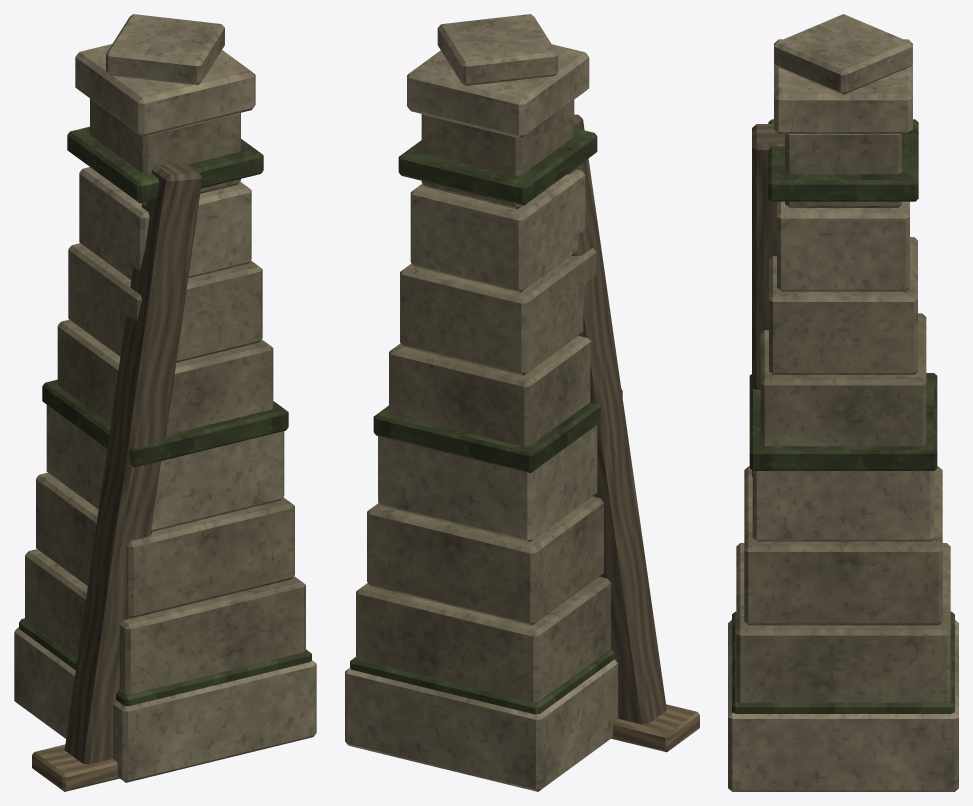
3 views of the same model, side by side, from view 1: azimuth 30°, elevation 25°; view 2: azimuth 150°, elevation 25°; view 3: azimuth 270°, elevation 25° (orthographic). The views are drawn at different scales.
Visible parts, largest first — view 1: weathered-sandstone-ashlar, sandstone-edges, quarter-sawn-timber, olive-painted-field-steel, exposed-end-grain; view 2: weathered-sandstone-ashlar, sandstone-edges, quarter-sawn-timber, olive-painted-field-steel, exposed-end-grain; view 3: weathered-sandstone-ashlar, sandstone-edges, olive-painted-field-steel, quarter-sawn-timber.
Boxes of the visible parts, left/top/right/bottom form: weathered-sandstone-ashlar: left=25, top=98, right=305, bottom=694; sandstone-edges: left=14, top=14, right=316, bottom=782; quarter-sawn-timber: left=64, top=163, right=202, bottom=764; olive-painted-field-steel: left=19, top=126, right=311, bottom=706; exposed-end-grain: left=32, top=744, right=119, bottom=791; weathered-sandstone-ashlar: left=356, top=100, right=610, bottom=702; sandstone-edges: left=345, top=14, right=617, bottom=791; quarter-sawn-timber: left=567, top=114, right=666, bottom=724; olive-painted-field-steel: left=350, top=128, right=622, bottom=714; exposed-end-grain: left=611, top=704, right=699, bottom=752; weathered-sandstone-ashlar: left=736, top=134, right=950, bottom=702; sandstone-edges: left=728, top=14, right=958, bottom=791; olive-painted-field-steel: left=732, top=119, right=954, bottom=713; quarter-sawn-timber: left=752, top=124, right=784, bottom=476.
Size of the model in its own units: 0.87 by 2.29 by 0.68.
Materials: 5 (5 with a texture image).
